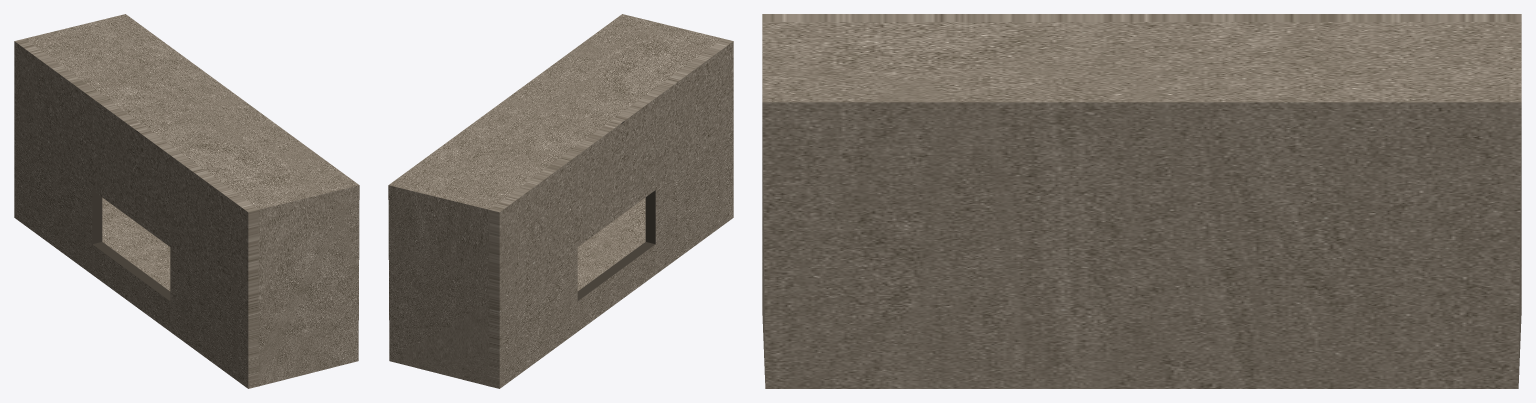
Rendered from station.glb.
3 renders of one model, left to right at view 1: azimuth 30°, elevation 25°; view 2: azimuth 150°, elevation 25°; view 3: azimuth 270°, elevation 25°, orthographic. The views are drawn at different scales.
Parts seen in each view (by area): view 1: Cube; view 2: Cube; view 3: Cube.
Boxes of the visible parts, box(x1,y1,x2,y2) form: Cube: box(14, 14, 359, 388); Cube: box(388, 14, 733, 388); Cube: box(762, 14, 1521, 388).
Size of the model in its own units: 3.3 by 5 by 12.
1 material, 1 textured.
